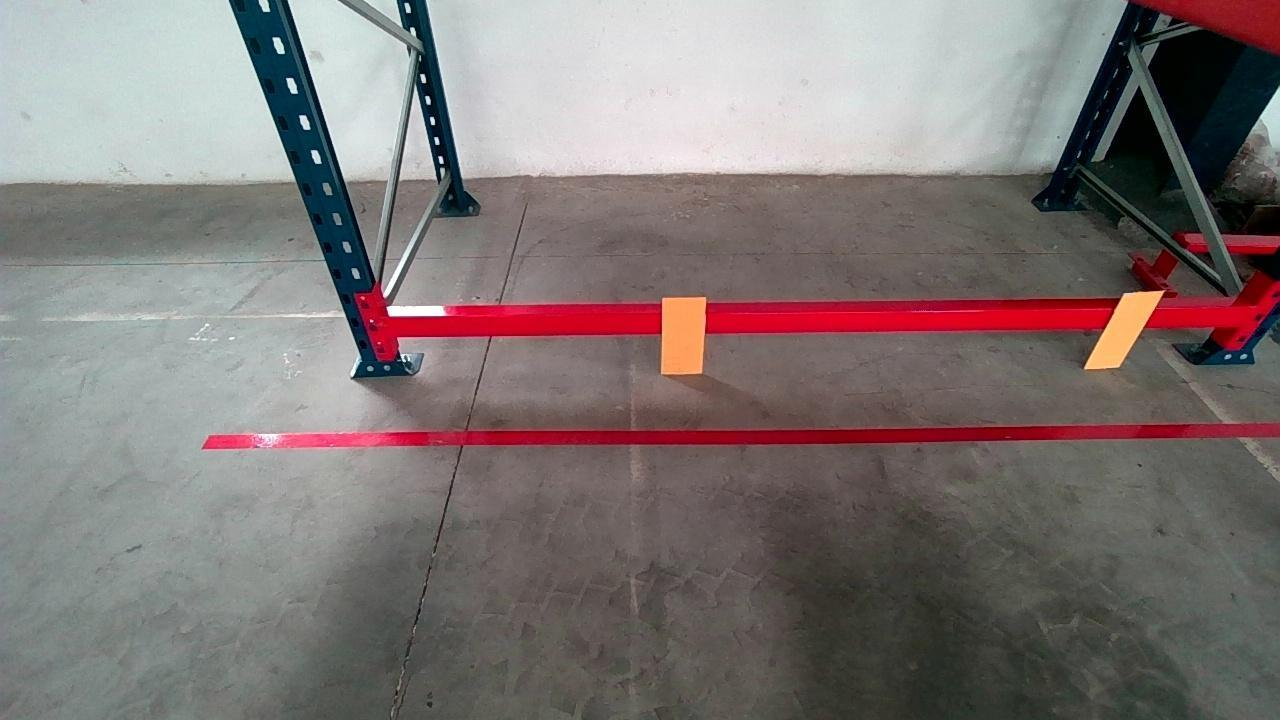h_rack: (388, 287, 1248, 343)
orange_strip: (1085, 292, 1164, 367), (661, 296, 706, 373)
red_line: (198, 416, 1278, 455)
